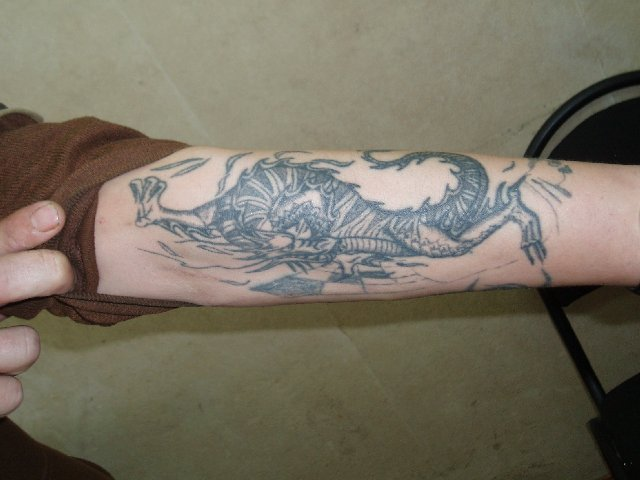tatu6_drakon: (64, 93, 597, 326)
